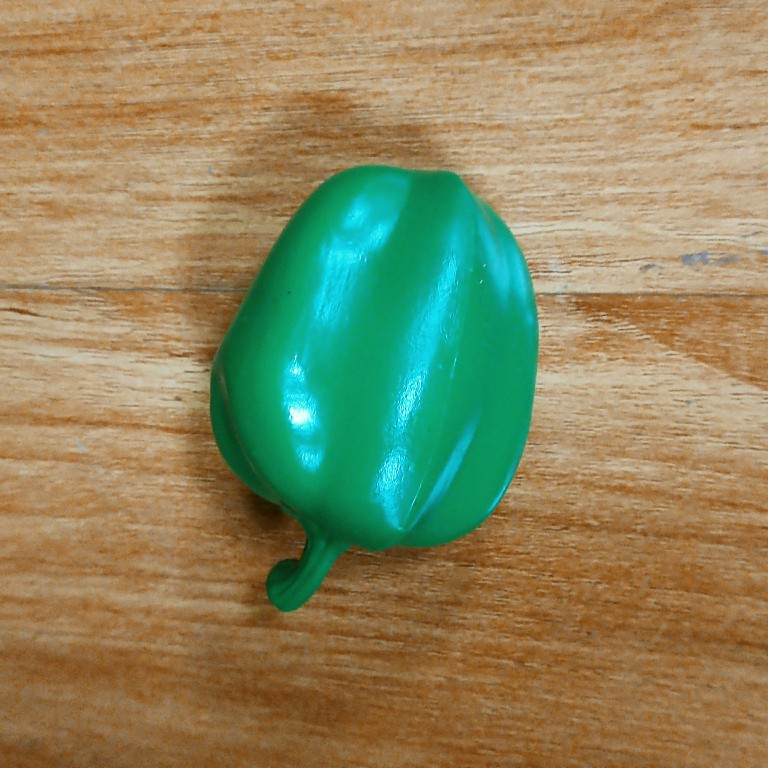fruit_pepper: (203, 161, 542, 618)
